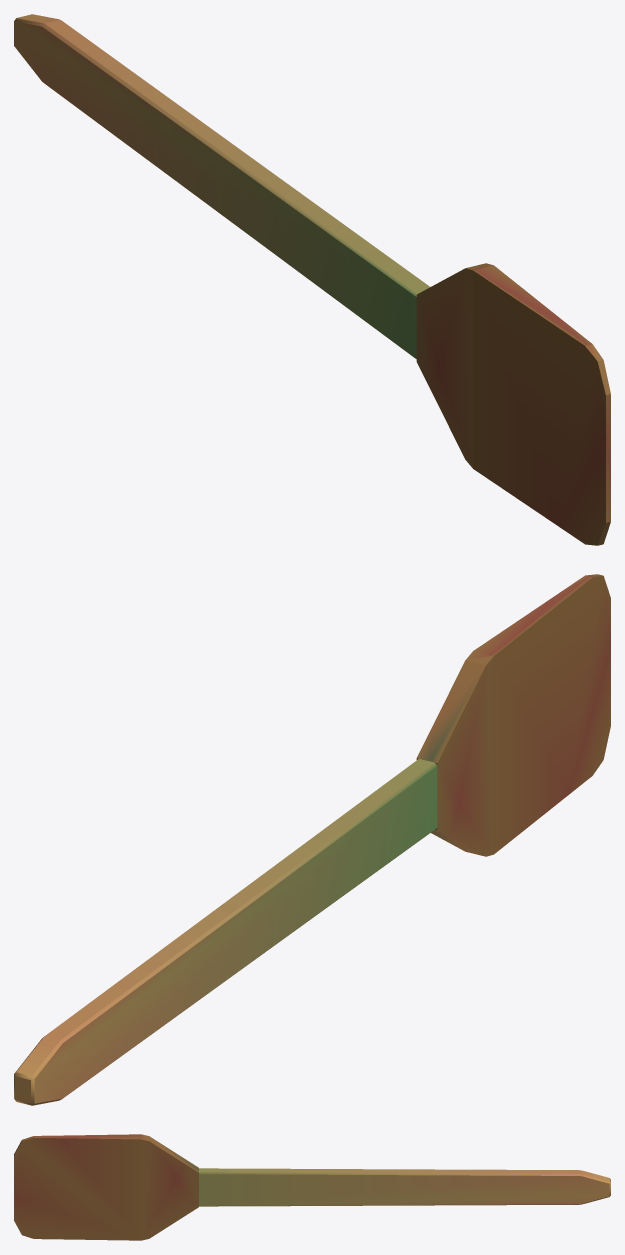
3 renders of one model, top to bottom at view 1: azimuth 30°, elevation 25°; view 2: azimuth 150°, elevation 25°; view 3: azimuth 270°, elevation 25°, orthographic. The views are drawn at different scales.
Parts seen in each view (by area): view 1: blade, shaft; view 2: blade, shaft; view 3: blade, shaft.
Boxes of the visible parts, x1=… form: blade: x1=416, y1=263, x2=610, y2=545; shaft: x1=14, y1=14, x2=429, y2=358; blade: x1=416, y1=574, x2=610, y2=856; shaft: x1=14, y1=759, x2=437, y2=1105; blade: x1=14, y1=1134, x2=198, y2=1240; shaft: x1=199, y1=1168, x2=610, y2=1206.
Size of the model in its own units: 0.00613 by 0.0561 by 0.3.
